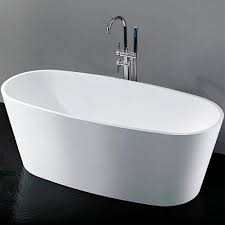bathub: (2, 56, 225, 221)
